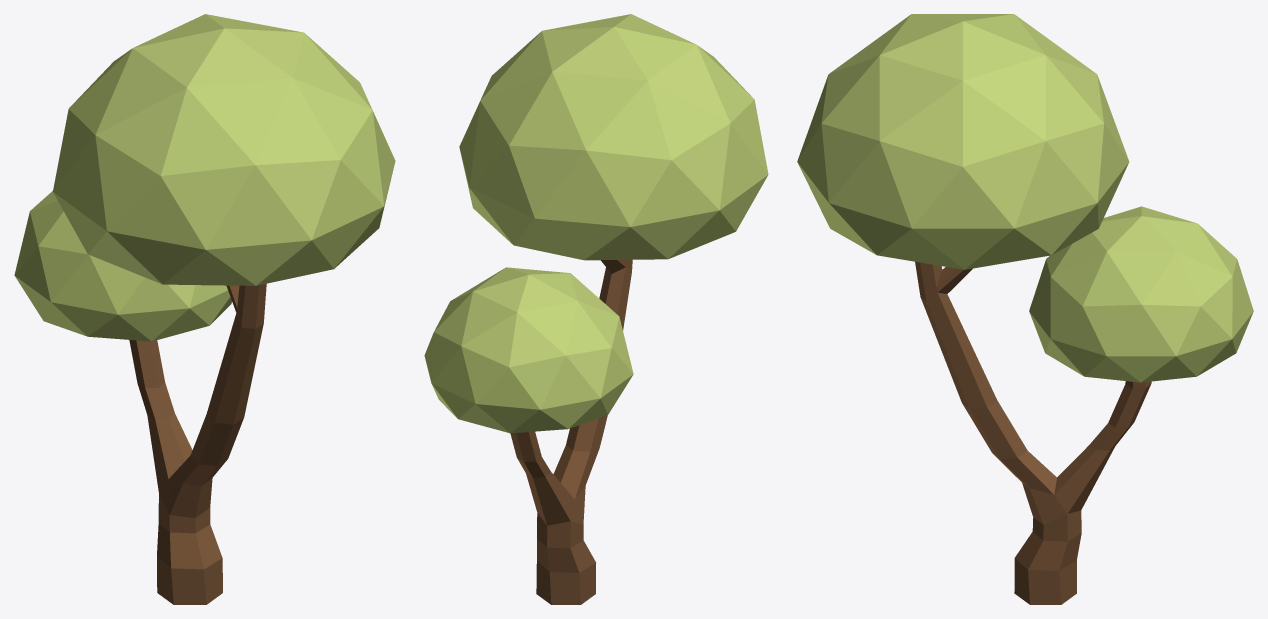
The model's file is Tree1.gltf.
3 views of the same model, side by side, from view 1: azimuth 30°, elevation 25°; view 2: azimuth 150°, elevation 25°; view 3: azimuth 270°, elevation 25° (orthographic). The views are drawn at different scales.
Visible parts, largest first — view 1: Tree1_Icosphere.002; view 2: Tree1_Icosphere.002; view 3: Tree1_Icosphere.002.
Boxes of the visible parts, <box> form: Tree1_Icosphere.002: <box>14,14,395,604</box>; Tree1_Icosphere.002: <box>424,14,768,604</box>; Tree1_Icosphere.002: <box>797,14,1253,604</box>.
Bounding box in the file's own units: 2.07 × 4.1 × 2.99.
